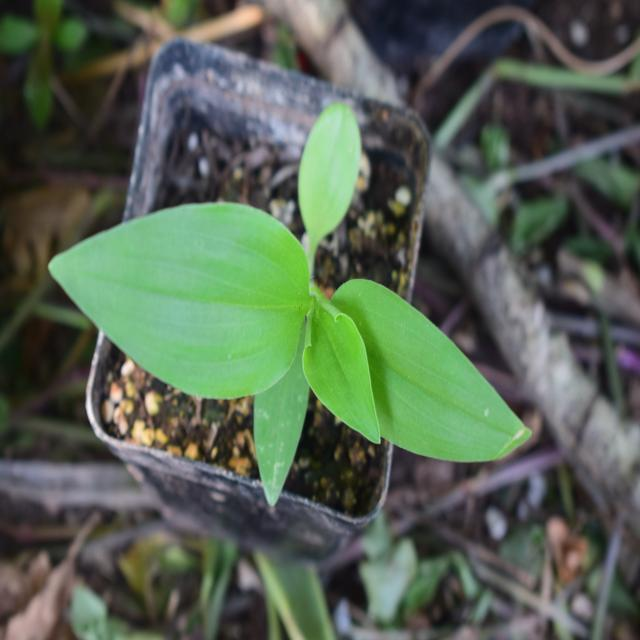Common Dayflower: (63, 146, 521, 518)
